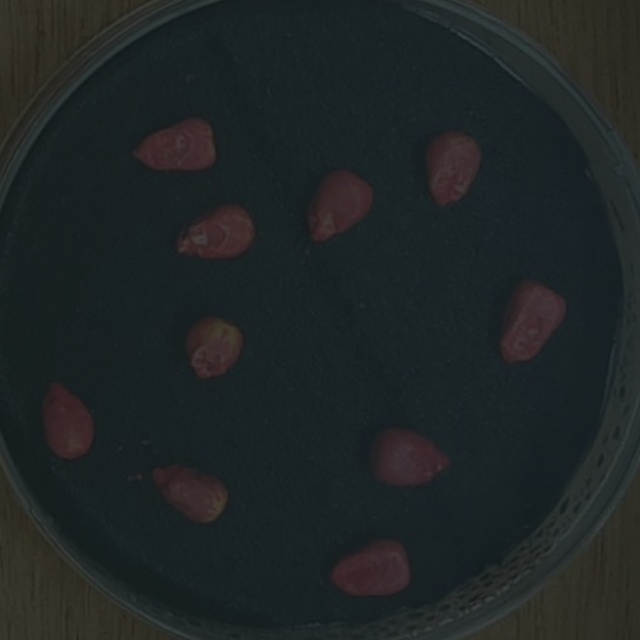Zea mays: (489, 269, 573, 370), (140, 451, 235, 531), (320, 527, 417, 604), (298, 159, 379, 251), (362, 418, 457, 493), (123, 108, 223, 178), (166, 193, 263, 265), (416, 119, 489, 213), (32, 369, 101, 466), (175, 307, 250, 386)
